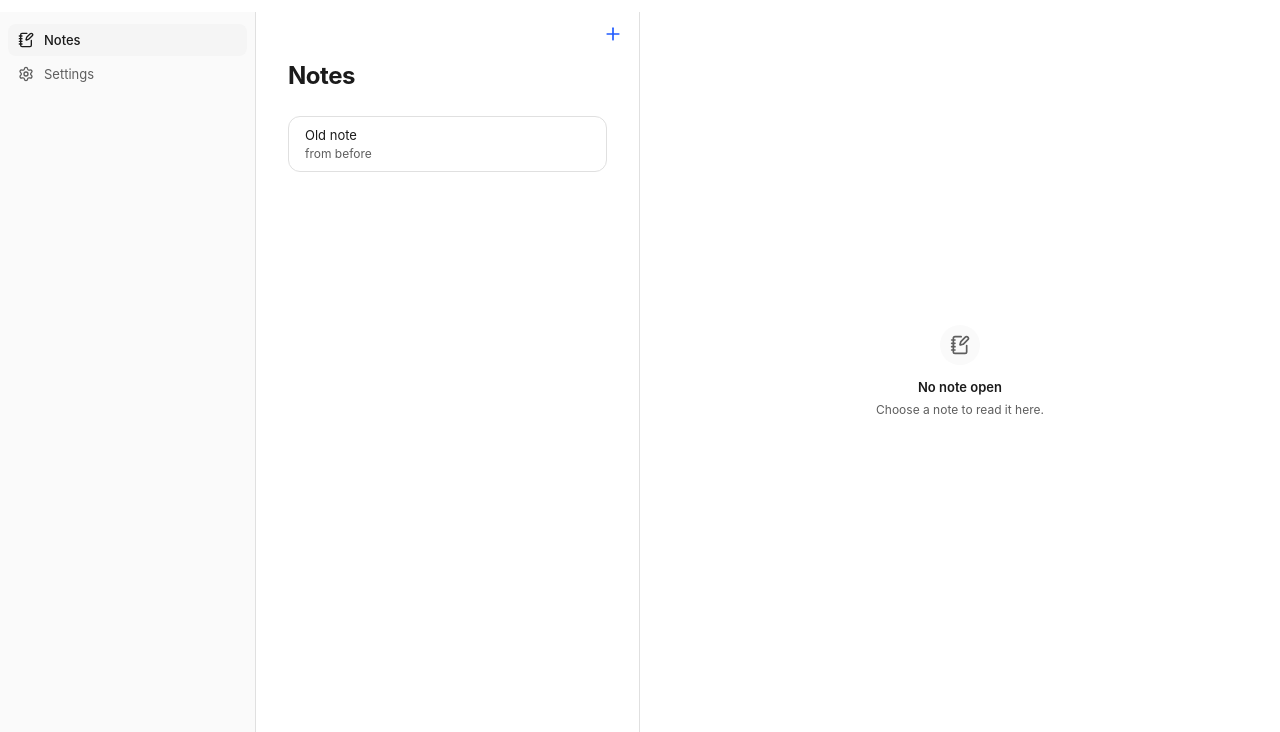
Test: opens a note kept by an earlier version of the app, which has no date
The image size is (1280, 732).
Click the button "Old note from before" at (331, 135), box [289, 117, 606, 171]
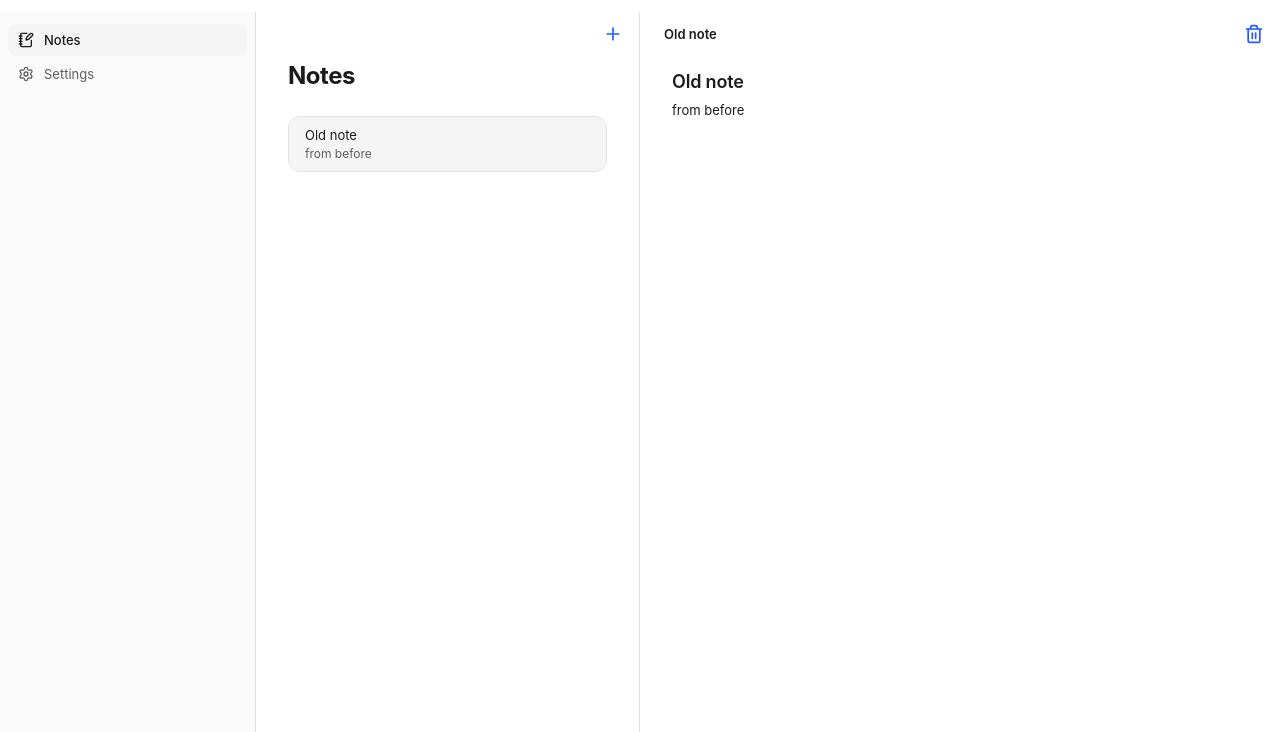
Expected: the 2nd heading "Old note" is shown, [672, 71, 744, 92]
